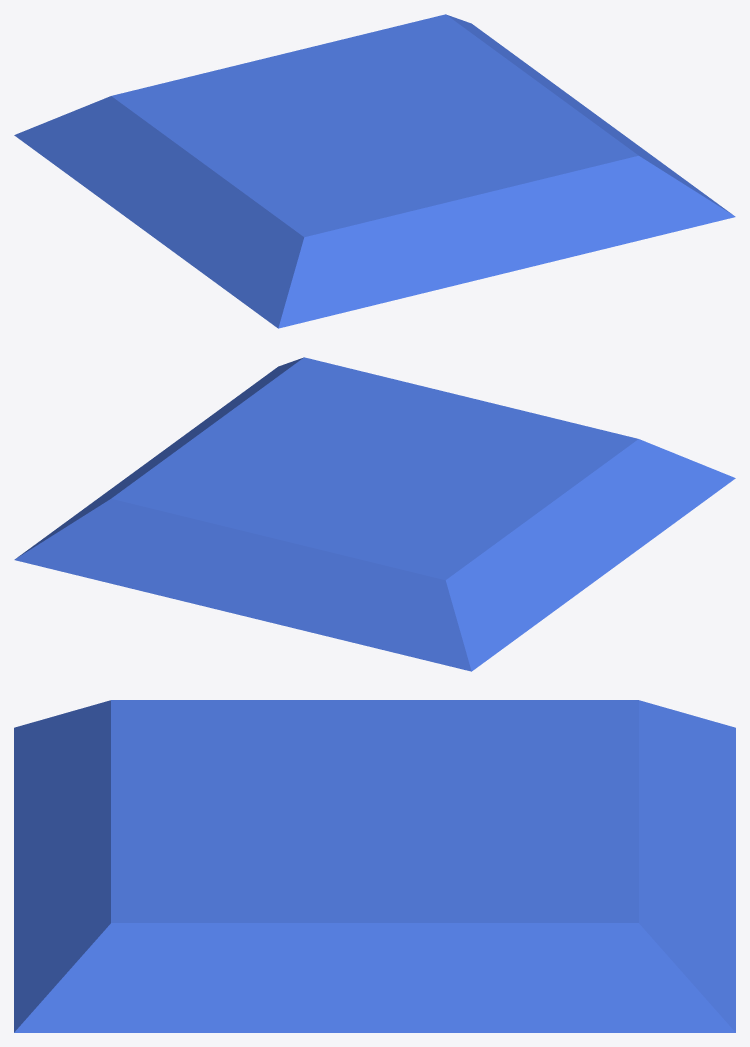
Rendered from ramp.fbx.
3 renders of one model, top to bottom at view 1: azimuth 30°, elevation 25°; view 2: azimuth 150°, elevation 25°; view 3: azimuth 270°, elevation 25°, orthographic. The views are drawn at different scales.
Visible parts, largest first — view 1: Cube.003; view 2: Cube.003; view 3: Cube.003.
Part boxes in pixels (left/top/right/bottom): Cube.003: left=14, top=14, right=735, bottom=328; Cube.003: left=14, top=357, right=735, bottom=671; Cube.003: left=14, top=700, right=735, bottom=1032.
Size of the model in its own units: 720 by 75.58 by 720.
